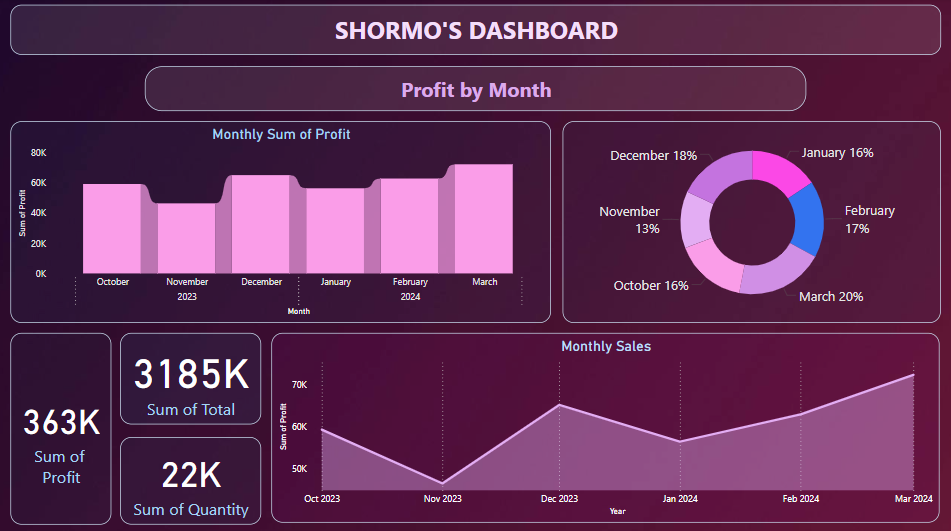

Layout of this report page (visuals, bound fields, positions):
{"tool":"powerbi","page":{"name":"Page 1","canvas":[1280,720],"ordinal":0},"visuals":[{"type":"textbox","box":[18.2,9.1,1243.6,66.7],"z":0},{"type":"columnChart","title":"Monthly Sum of Profit ","fields":{"Y":["Sales_data.Profit"],"Category":["Sales_data.Date.Variation.Date Hierarchy.Year","Sales_data.Date.Variation.Date Hierarchy.Month"]},"box":[18.7,164,722.7,269.3],"z":1000},{"type":"donutChart","title":"Average of Profit by Day","fields":{"Y":["Sales_data.Profit"],"Category":["Sales_data.Date.Variation.Date Hierarchy.Month","Sales_data.Date.Variation.Date Hierarchy.Day"]},"box":[756,164,505.3,269.3],"z":2000},{"type":"card","fields":{"Values":["Sales_data.Profit"]},"box":[18.7,448,134.7,256],"z":3000},{"type":"card","title":"Sum of Quantity by Day","fields":{"Values":["Sales_data.Quantity"]},"box":[164,586.7,188,117.3],"z":4000},{"type":"card","fields":{"Values":["Sales_data.Total"]},"box":[164,448,188,122.7],"z":5000},{"type":"textbox","box":[197.3,90.7,884,60],"z":6000},{"type":"areaChart","title":"Monthly Sales","fields":{"Category":["Sales_data.Date.Variation.Date Hierarchy.Year","Sales_data.Date.Variation.Date Hierarchy.Month"],"Y":["Sales_data.Profit"]},"box":[367,447.4,893.3,253.3],"z":7000}]}

Visuals, with their boxes in screenshot pixels (x1, y1, x2, y2), scaled from the page's 1280x720 canvas onto the 951x531 screenshot:
textbox: [14, 7, 937, 56]
"Monthly Sum of Profit " columnChart: [14, 121, 551, 320]
"Average of Profit by Day" donutChart: [562, 121, 937, 320]
card - Sales_data.Profit: [14, 330, 114, 519]
"Sum of Quantity by Day" card: [122, 433, 262, 519]
card - Sales_data.Total: [122, 330, 262, 421]
textbox: [147, 67, 803, 111]
"Monthly Sales" areaChart: [273, 330, 936, 517]
